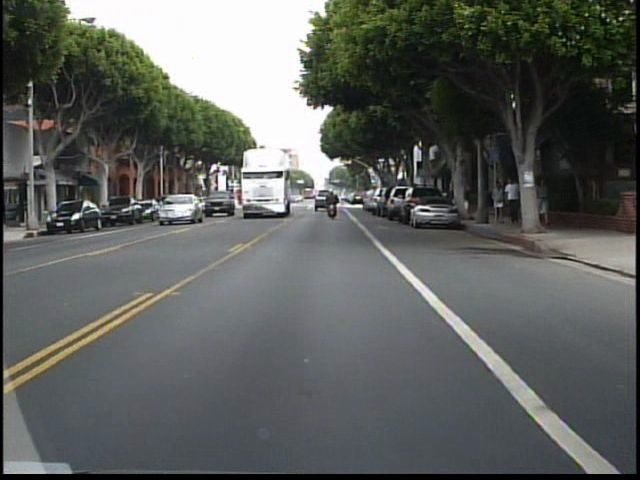person: (501, 175, 521, 227), (486, 176, 504, 226), (535, 173, 551, 226), (323, 185, 342, 221)
